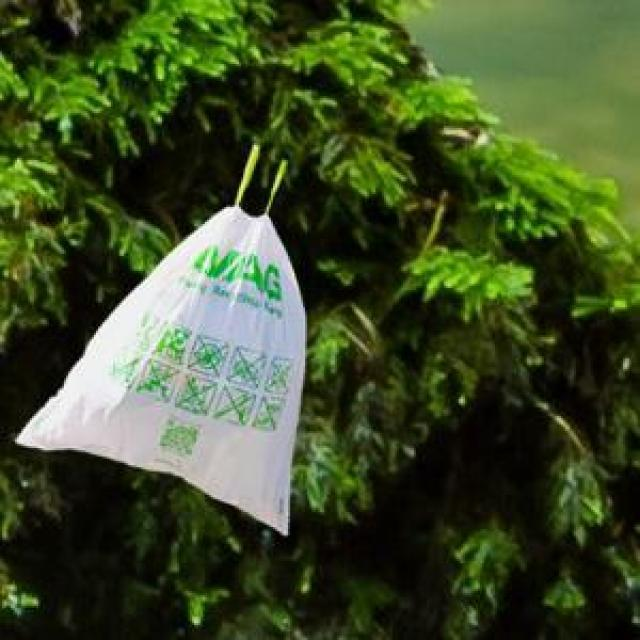waste: (15, 203, 333, 536)
